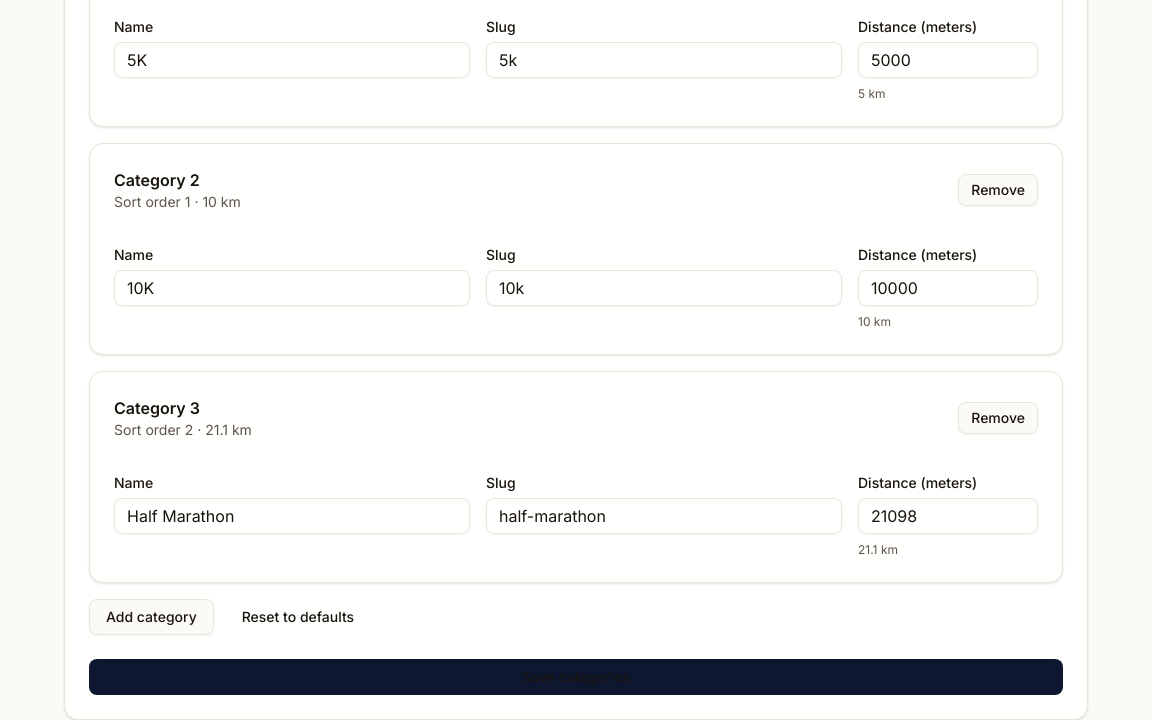
Test: EventCategoryConfigForm › supports adding and removing a category row
The image size is (1152, 720).
(page scrolled)
Click the button "Add category": {"x": 151, "y": 617} [89,599,214,635]
(page scrolled)
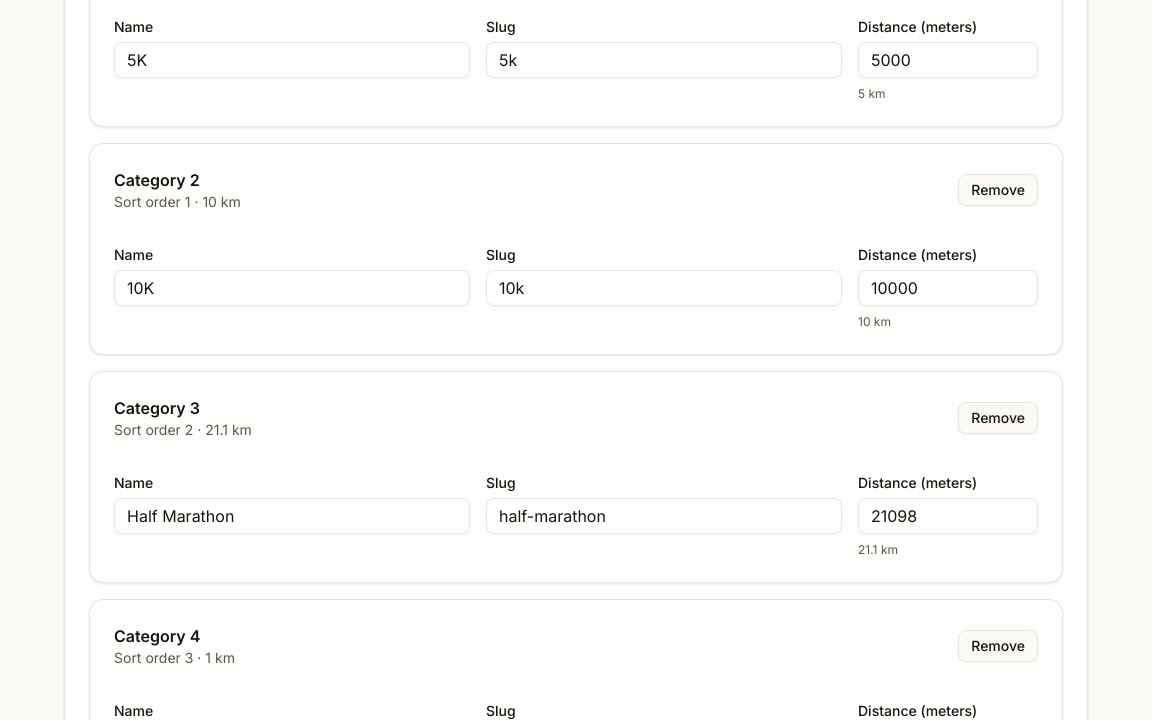
Result: the text "Category 4" is shown at [114,626,200,646]
Click the button "Remove" in the row of "· 1 km": {"x": 998, "y": 646} [958,630,1038,662]
(page scrolled)
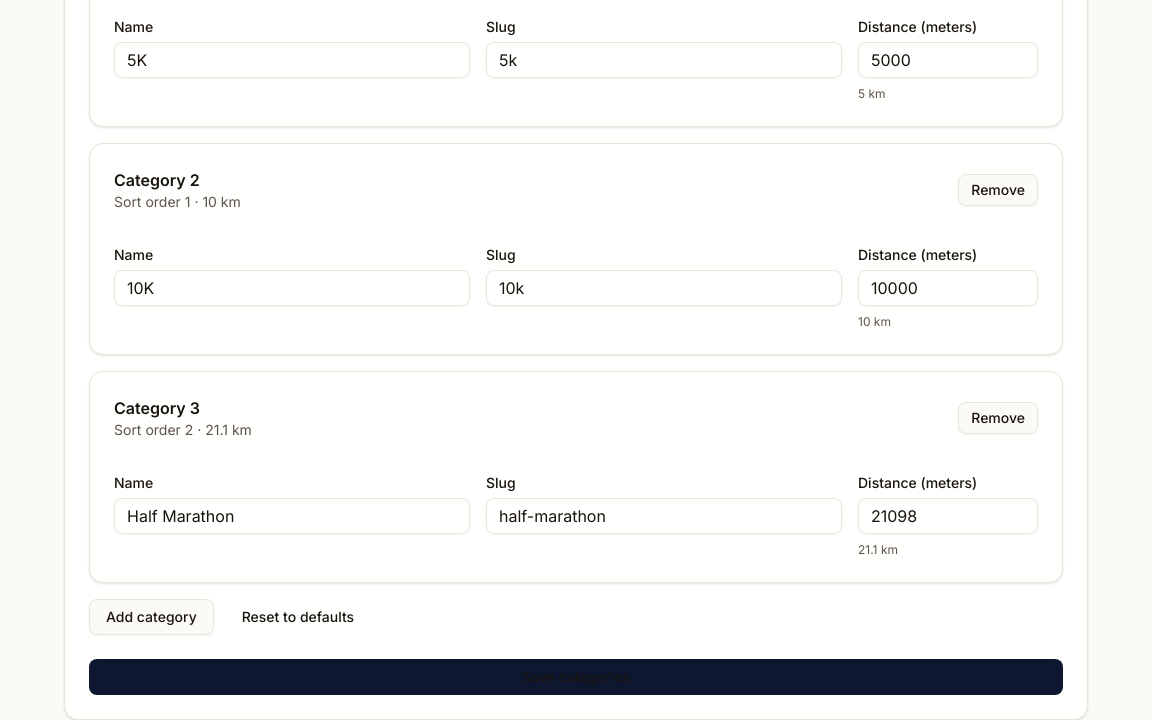
Result: the text "Category 4" is gone
